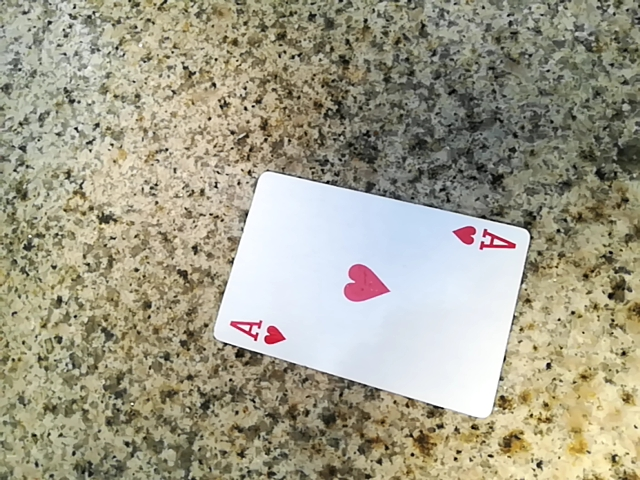hx a: (211, 170, 529, 419)
